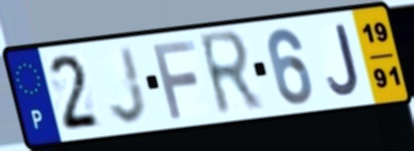2: (46, 52, 101, 133)
6: (265, 25, 314, 107)
F: (149, 37, 199, 121)
J: (107, 44, 151, 127), (325, 21, 362, 97)
R: (195, 27, 267, 121)
